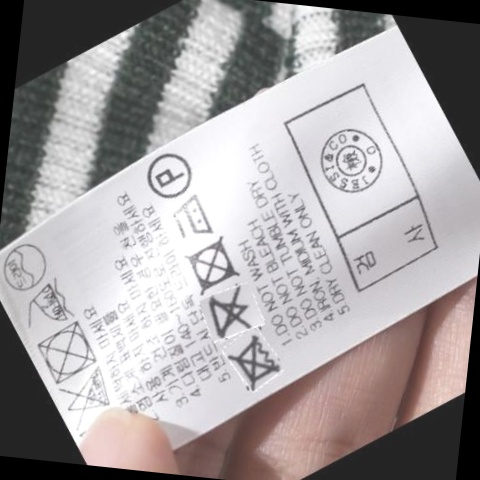DN_bleach: (205, 284, 260, 341)
DN_tumble_dry: (182, 237, 241, 291)
DN_wash: (231, 337, 286, 391)
dry_clean_any_solvent_except_trichloroethylene: (146, 145, 199, 201)
iron_medium: (170, 193, 218, 242)
